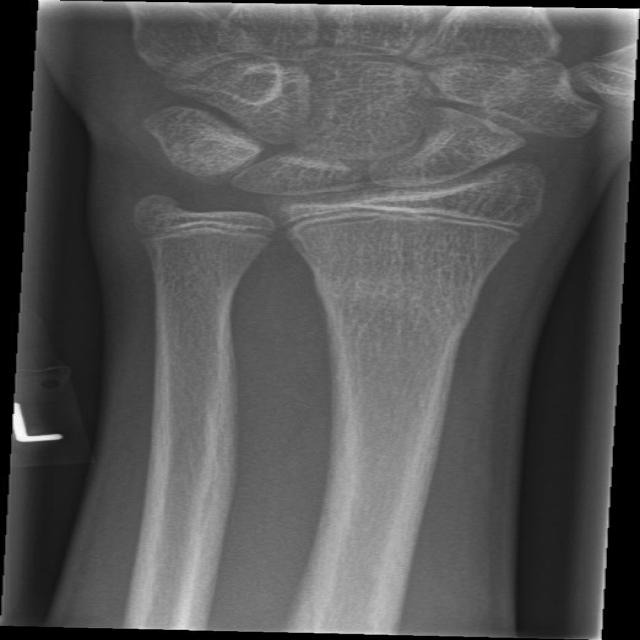fracture: (261, 192, 541, 254), (124, 203, 296, 259)
